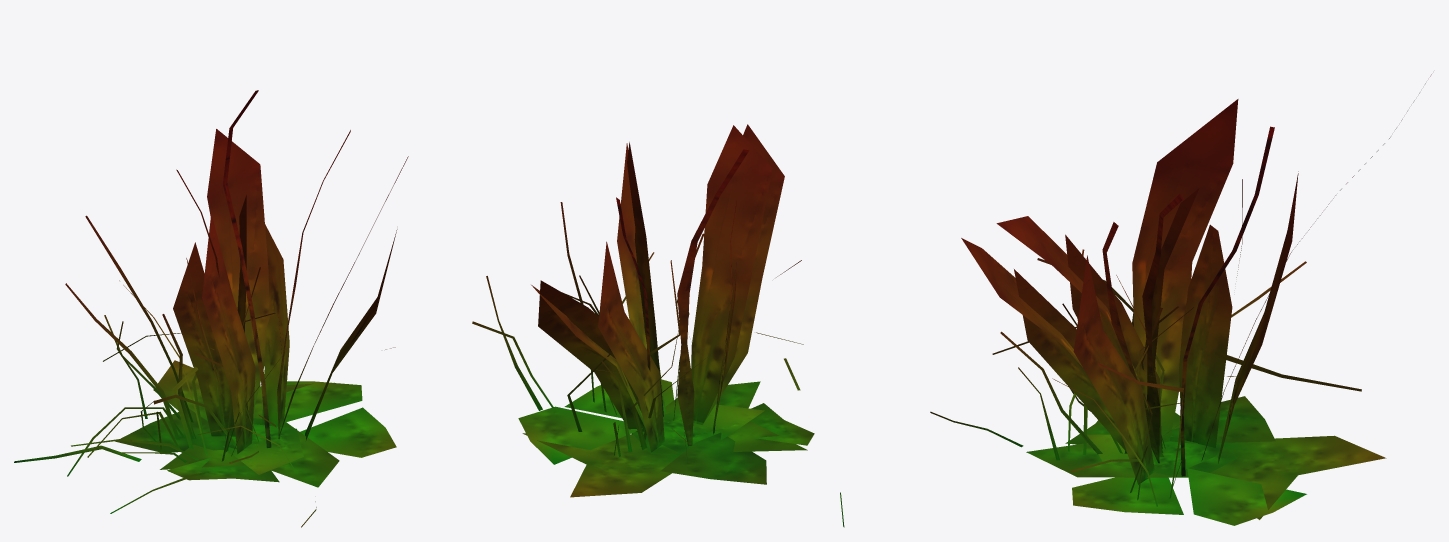
Rendered from Thatching Grass_LOD1_Var7_uddmcgbia.glb.
The picture shows the model from 3 angles, left to right: view 1: azimuth 30°, elevation 25°; view 2: azimuth 150°, elevation 25°; view 3: azimuth 270°, elevation 25°; orthographic projection. The views are drawn at different scales.
Parts seen in each view (by area): view 1: _4b66_Var7_LOD1; view 2: _4b66_Var7_LOD1; view 3: _4b66_Var7_LOD1.
Part boxes in pixels (bbox=[...]): _4b66_Var7_LOD1: bbox=[14, 90, 408, 527]; _4b66_Var7_LOD1: bbox=[472, 124, 844, 527]; _4b66_Var7_LOD1: bbox=[930, 74, 1431, 525].
Bounding box in the file's own units: 0.2336 × 0.2353 × 0.247.
Materials: 1 (1 with a texture image).
